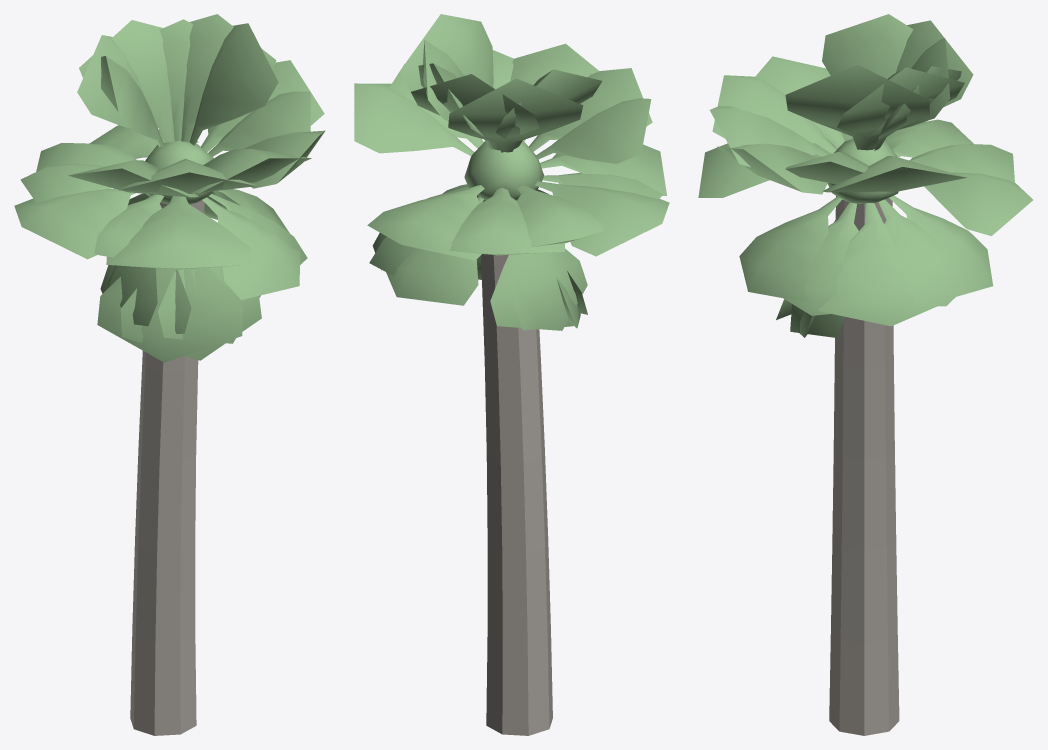
File: tree-palm-fan-b.glb
3 renders of one model, left to right at view 1: azimuth 30°, elevation 25°; view 2: azimuth 150°, elevation 25°; view 3: azimuth 270°, elevation 25°, orthographic. The views are drawn at different scales.
Visible parts, largest first — view 1: tree-palm-fan-b; view 2: tree-palm-fan-b; view 3: tree-palm-fan-b.
Part boxes in pixels (x1,y1,x2,y2): tree-palm-fan-b: (14, 14, 325, 735); tree-palm-fan-b: (354, 14, 669, 735); tree-palm-fan-b: (698, 14, 1033, 735).
Size of the model in its own units: 0.4416 by 1 by 0.4356.
